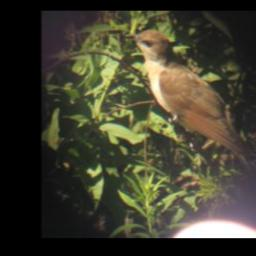Cuckoo: (124, 28, 256, 181)
